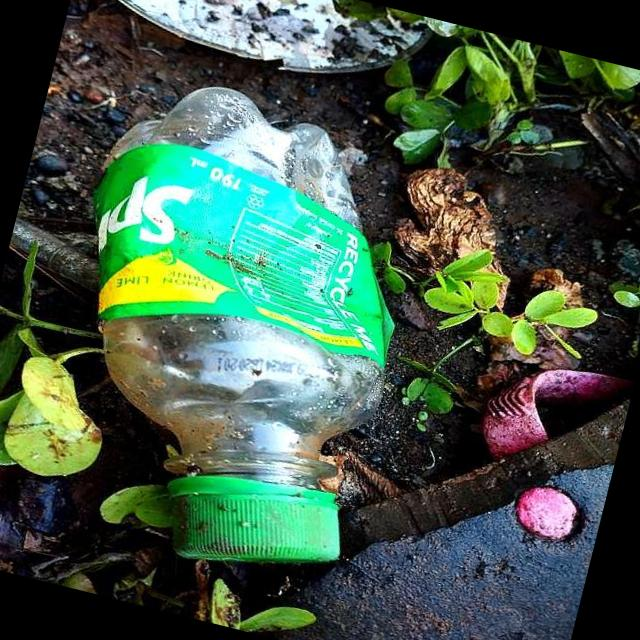Non-biodegradable: (29, 69, 442, 574)
